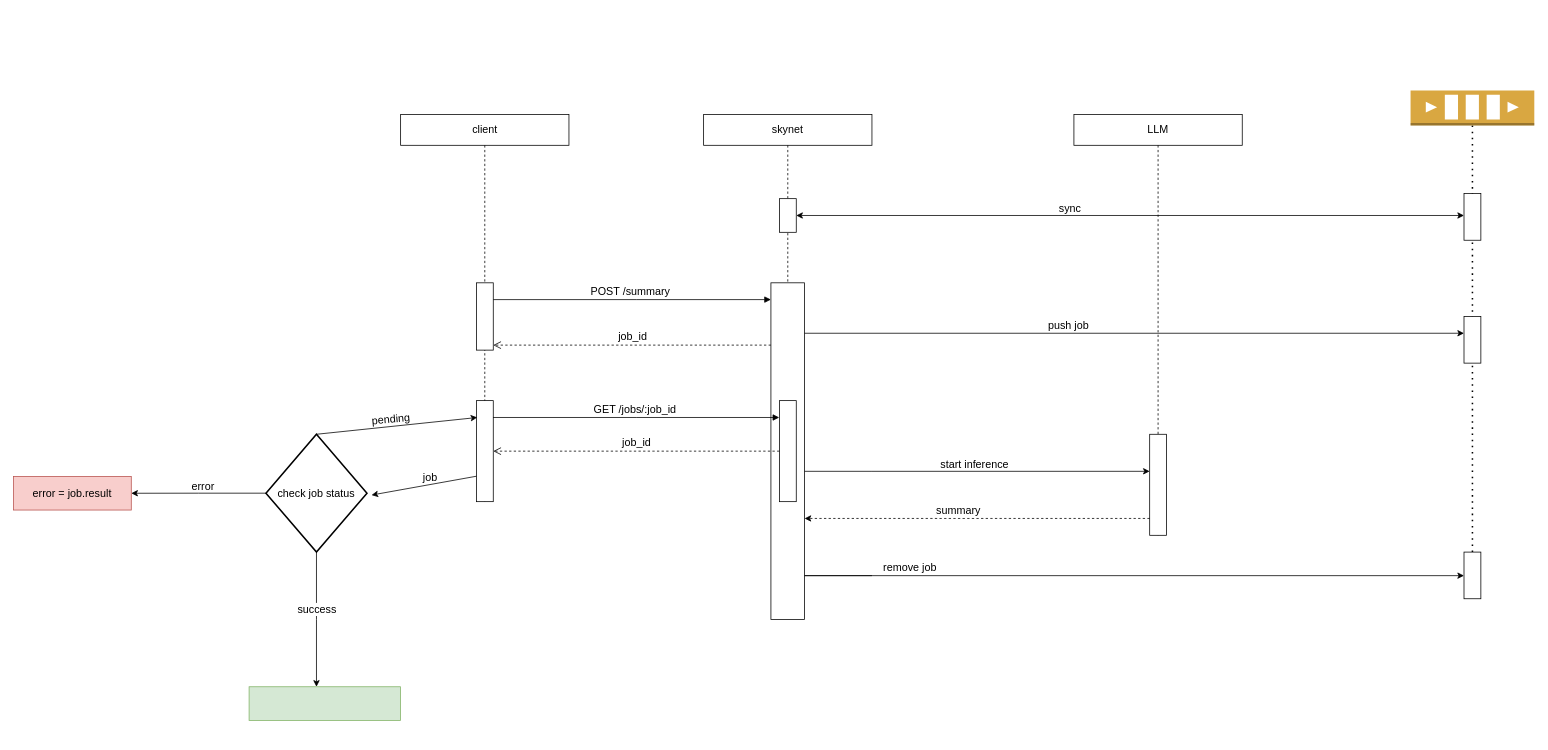
Image size: 1548x750. Some labels were removed from this diagram. Each missing label, with the centre of its shape:
pending jobs: the point at 1472,108
summary = job.result: the point at 324,703
